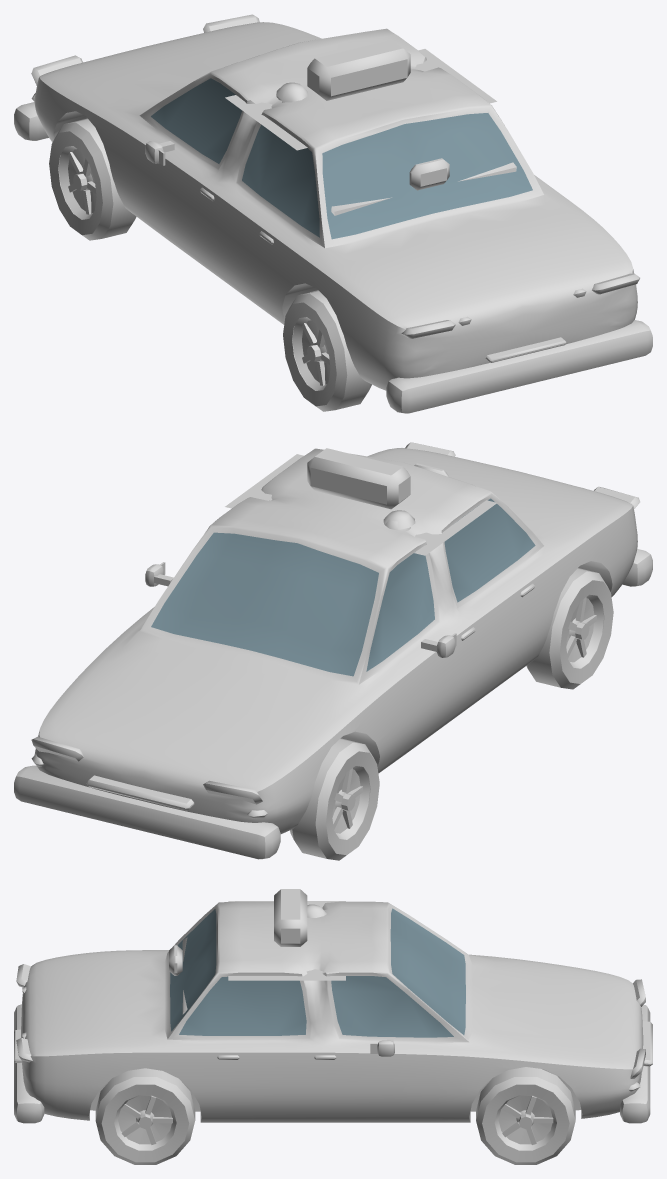
File: car_taxi.glb
The picture shows the model from 3 angles, top to bottom: view 1: azimuth 30°, elevation 25°; view 2: azimuth 150°, elevation 25°; view 3: azimuth 270°, elevation 25°; orthographic projection. The views are drawn at different scales.
Visible parts, largest first — view 1: car_taxi; view 2: car_taxi; view 3: car_taxi.
Part boxes in pixels (<box>): car_taxi: <box>14,14,652,413</box>; car_taxi: <box>14,442,652,860</box>; car_taxi: <box>14,889,652,1164</box>.
Size of the model in its own units: 2.06 by 1.66 by 4.62.
